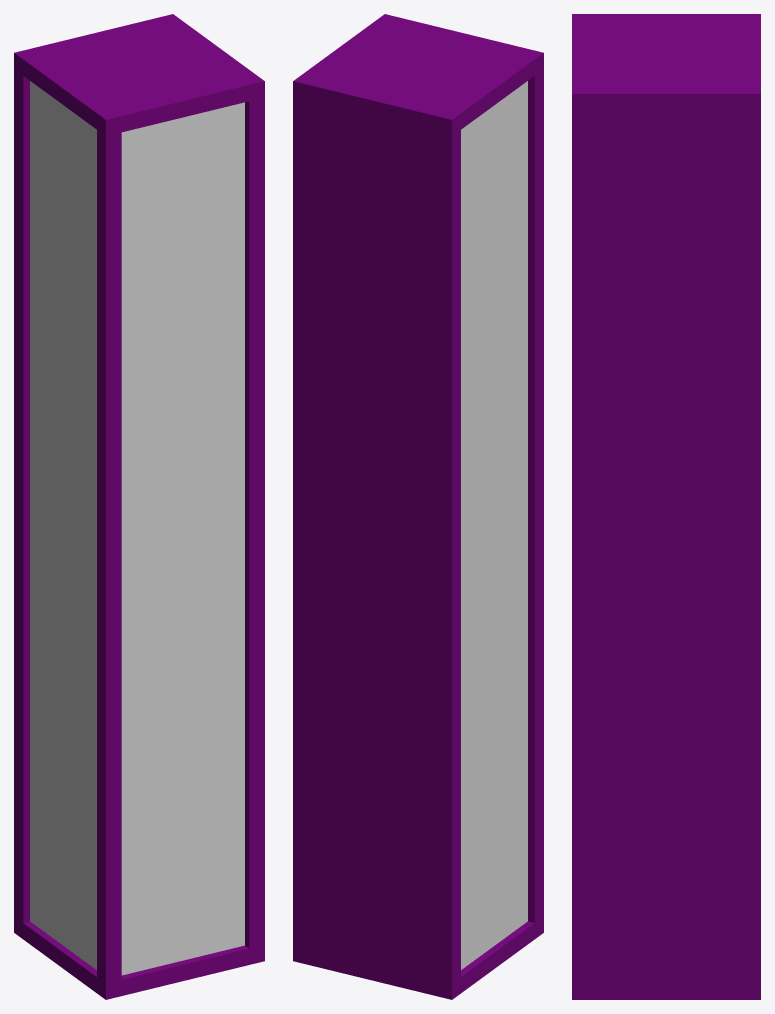
File: Cyberpunk Sci-Fi Building1.fbx
3 renders of one model, left to right at view 1: azimuth 30°, elevation 25°; view 2: azimuth 150°, elevation 25°; view 3: azimuth 270°, elevation 25°, orthographic. The views are drawn at different scales.
Parts seen in each view (by area): view 1: Random Light Building; view 2: Random Light Building; view 3: Random Light Building.
Part boxes in pixels (bbox=[...]): Random Light Building: bbox=[14, 14, 264, 999]; Random Light Building: bbox=[293, 14, 543, 999]; Random Light Building: bbox=[572, 14, 760, 999].
Size of the model in its own units: 2210 by 11692 by 2210.
